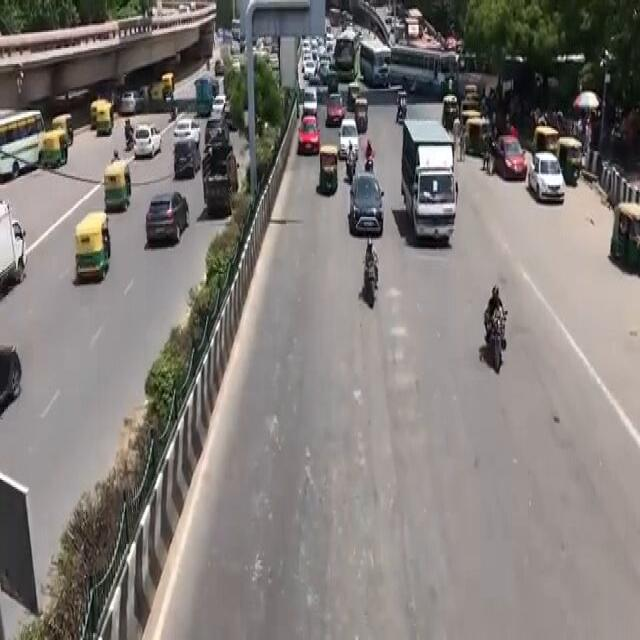three_wheeler: (311, 144, 339, 196)
